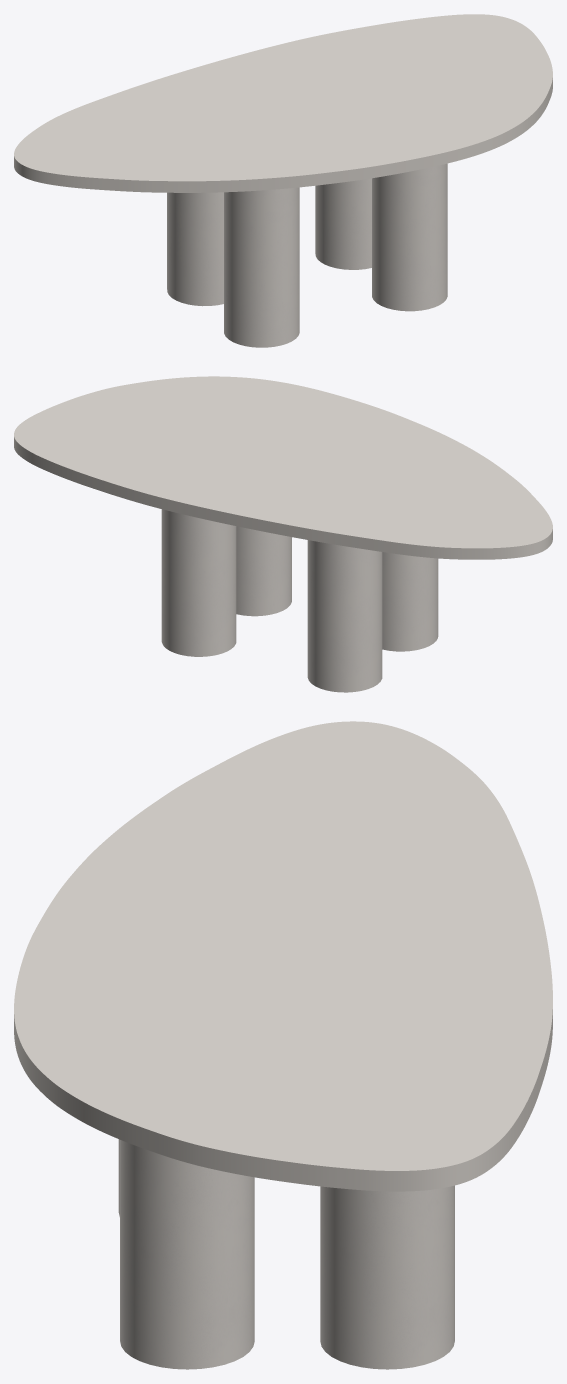
File: pearlwhite_pebbletop_standard_grove.glb
3 renders of one model, top to bottom at view 1: azimuth 30°, elevation 25°; view 2: azimuth 150°, elevation 25°; view 3: azimuth 270°, elevation 25°, orthographic. The views are drawn at different scales.
Visible parts, largest first — view 1: standard_pebbletop, grove; view 2: standard_pebbletop, grove; view 3: standard_pebbletop, grove.
Part boxes in pixels (bbox=[...]): standard_pebbletop: bbox=[14, 14, 552, 192]; grove: bbox=[167, 163, 447, 347]; standard_pebbletop: bbox=[14, 376, 552, 559]; grove: bbox=[161, 509, 438, 692]; standard_pebbletop: bbox=[14, 721, 552, 1191]; grove: bbox=[118, 1139, 454, 1369].
Size of the model in its own units: 7.5 by 2.51 by 3.8.
1 material, 1 textured.
